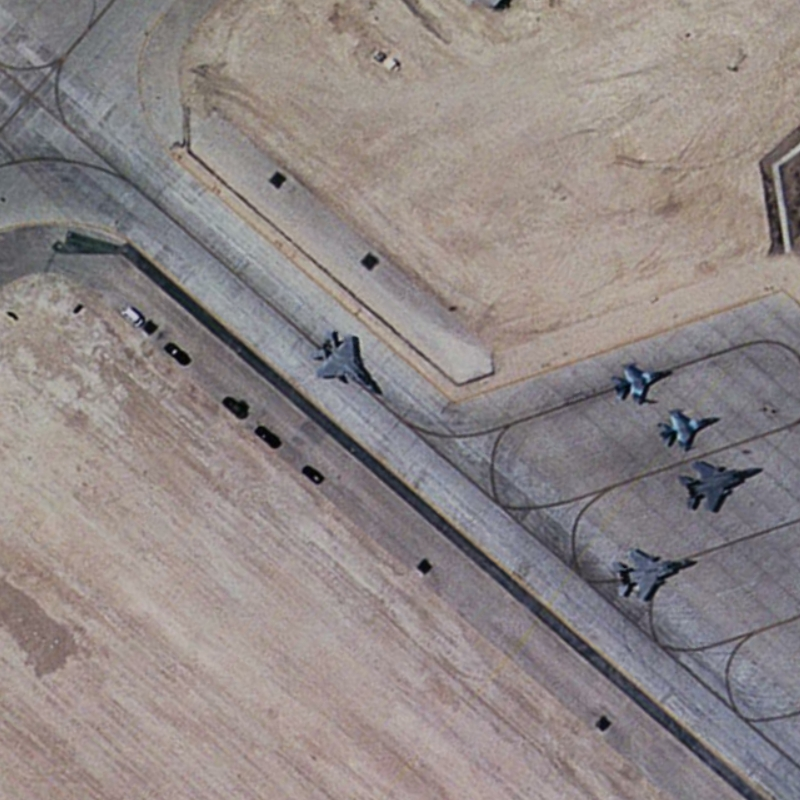A13: (601, 532, 698, 610), (309, 318, 387, 405), (676, 455, 766, 518)
A5: (608, 350, 681, 411), (654, 402, 726, 453)
